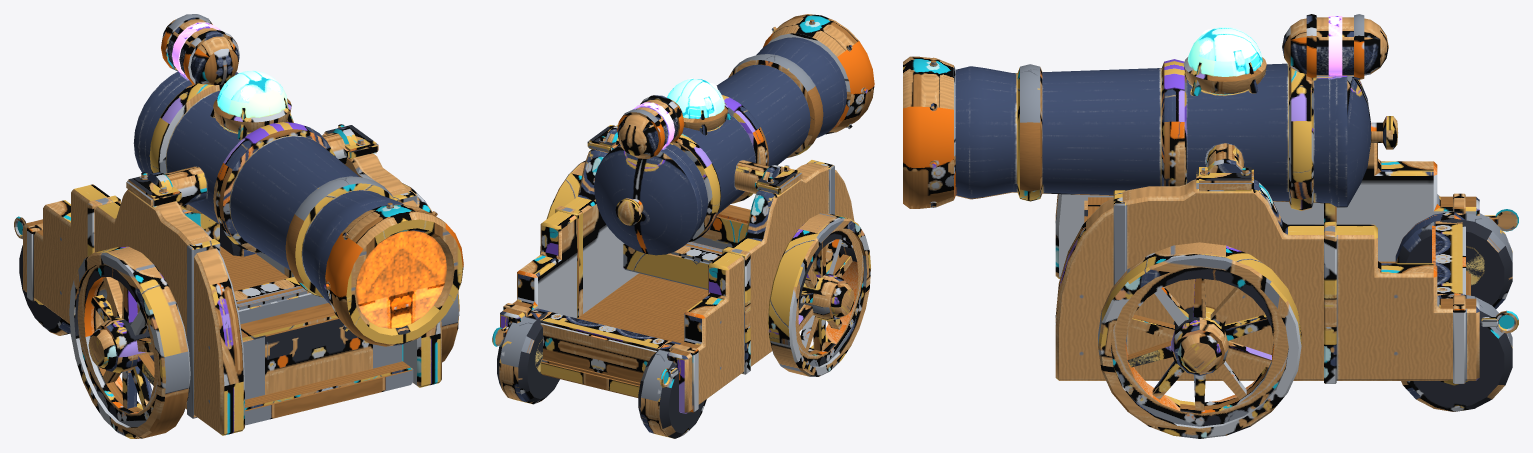
The model's file is Wrecker_v2_LOD0.fbx.
3 views of the same model, side by side, from view 1: azimuth 30°, elevation 25°; view 2: azimuth 150°, elevation 25°; view 3: azimuth 270°, elevation 25° (orthographic). The views are drawn at different scales.
Visible parts, largest first — view 1: Carriage, Barrel, Wheel_FR, Slot_Booster, Slot_Module, Slot_Core, Wheel_FL, Wheel_RR; view 2: Carriage, Barrel, Wheel_FR, Slot_Booster, Wheel_RL, Wheel_RR, Slot_Module, Slot_Core, Wheel_FL; view 3: Carriage, Barrel, Wheel_FL, Slot_Booster, Slot_Module, Wheel_RR, Wheel_RL, Slot_Core.
Boxes of the visible parts, x1=… form: Carriage: x1=14, y1=124, x2=441, y2=435; Barrel: x1=133, y1=71, x2=403, y2=305; Wheel_FR: x1=69, y1=246, x2=190, y2=438; Slot_Booster: x1=324, y1=202, x2=463, y2=346; Slot_Module: x1=161, y1=14, x2=239, y2=85; Slot_Core: x1=210, y1=70, x2=293, y2=139; Wheel_FL: x1=402, y1=183, x2=459, y2=362; Wheel_RR: x1=19, y1=245, x2=70, y2=335; Carriage: x1=492, y1=124, x2=854, y2=413; Barrel: x1=594, y1=37, x2=846, y2=255; Wheel_FR: x1=768, y1=213, x2=870, y2=376; Slot_Booster: x1=763, y1=14, x2=874, y2=134; Wheel_RL: x1=497, y1=308, x2=559, y2=404; Wheel_RR: x1=638, y1=341, x2=706, y2=438; Slot_Module: x1=617, y1=95, x2=684, y2=158; Slot_Core: x1=667, y1=78, x2=731, y2=135; Wheel_FL: x1=540, y1=160, x2=585, y2=254; Carriage: x1=1055, y1=143, x2=1518, y2=383; Barrel: x1=955, y1=59, x2=1398, y2=210; Wheel_FL: x1=1098, y1=242, x2=1301, y2=438; Slot_Booster: x1=903, y1=56, x2=955, y2=208; Slot_Module: x1=1282, y1=14, x2=1388, y2=79; Wheel_RR: x1=1395, y1=211, x2=1512, y2=308; Wheel_RL: x1=1401, y1=293, x2=1512, y2=411; Slot_Core: x1=1183, y1=27, x2=1266, y2=95.
Size of what is drawn, in the model's own units: 2.44 by 2.25 by 3.63.
2 materials, 2 textured.
